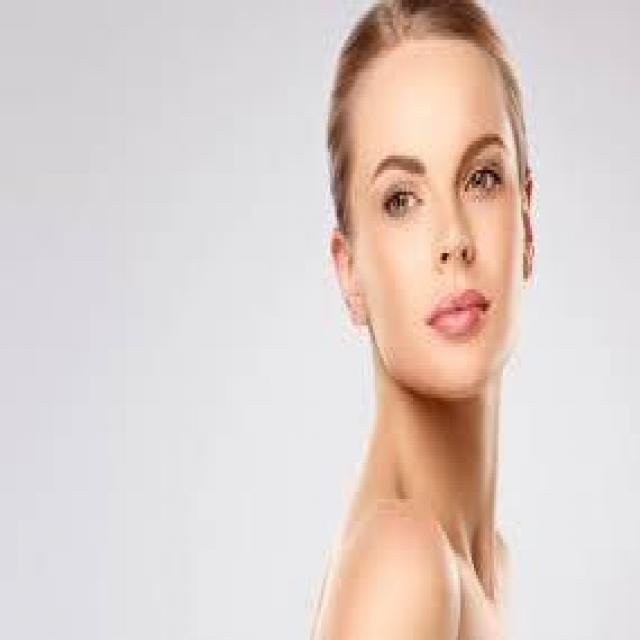person: (285, 0, 548, 633)
